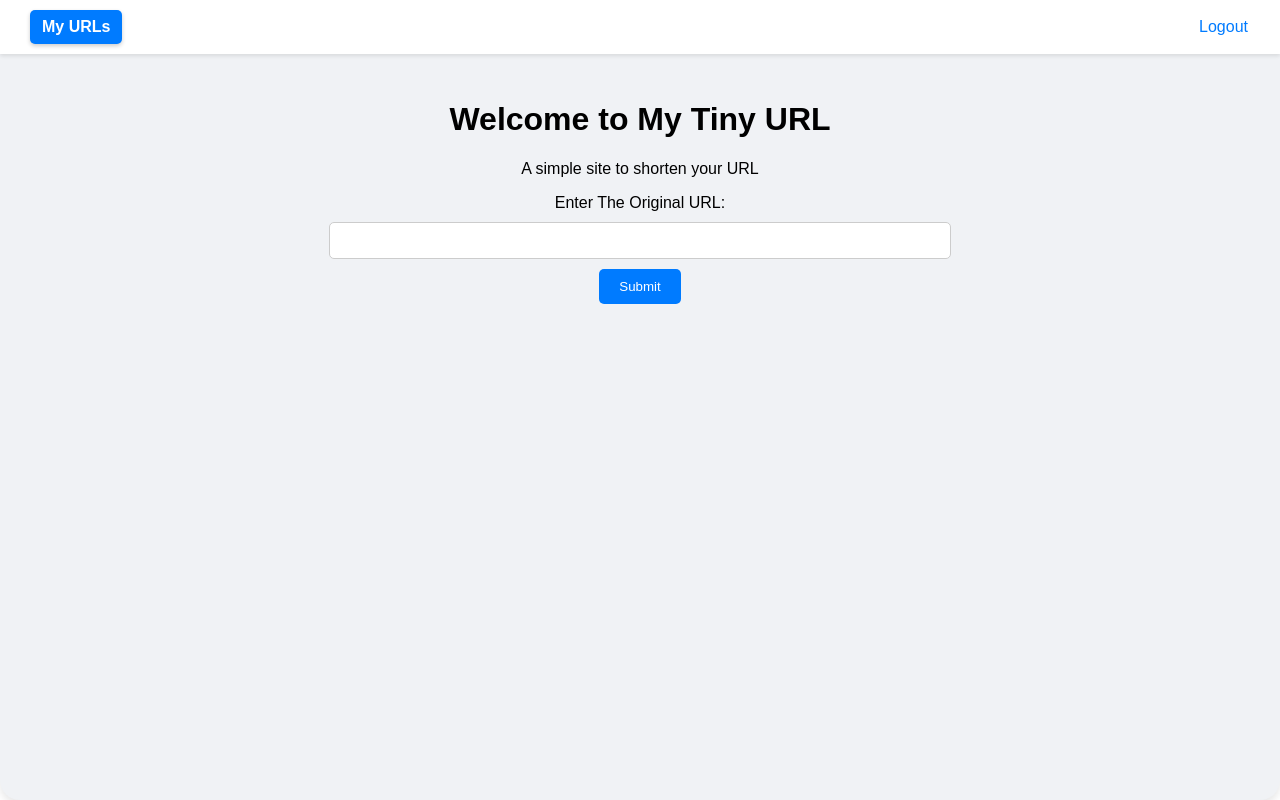
TinyUrlHomePage › handles user input and form submission successfully
// Simulate user input and form submission
In the field labelled "Enter The Original URL:": (640, 240) top-left (329, 222), bottom-right (951, 259), type "http://test.url"
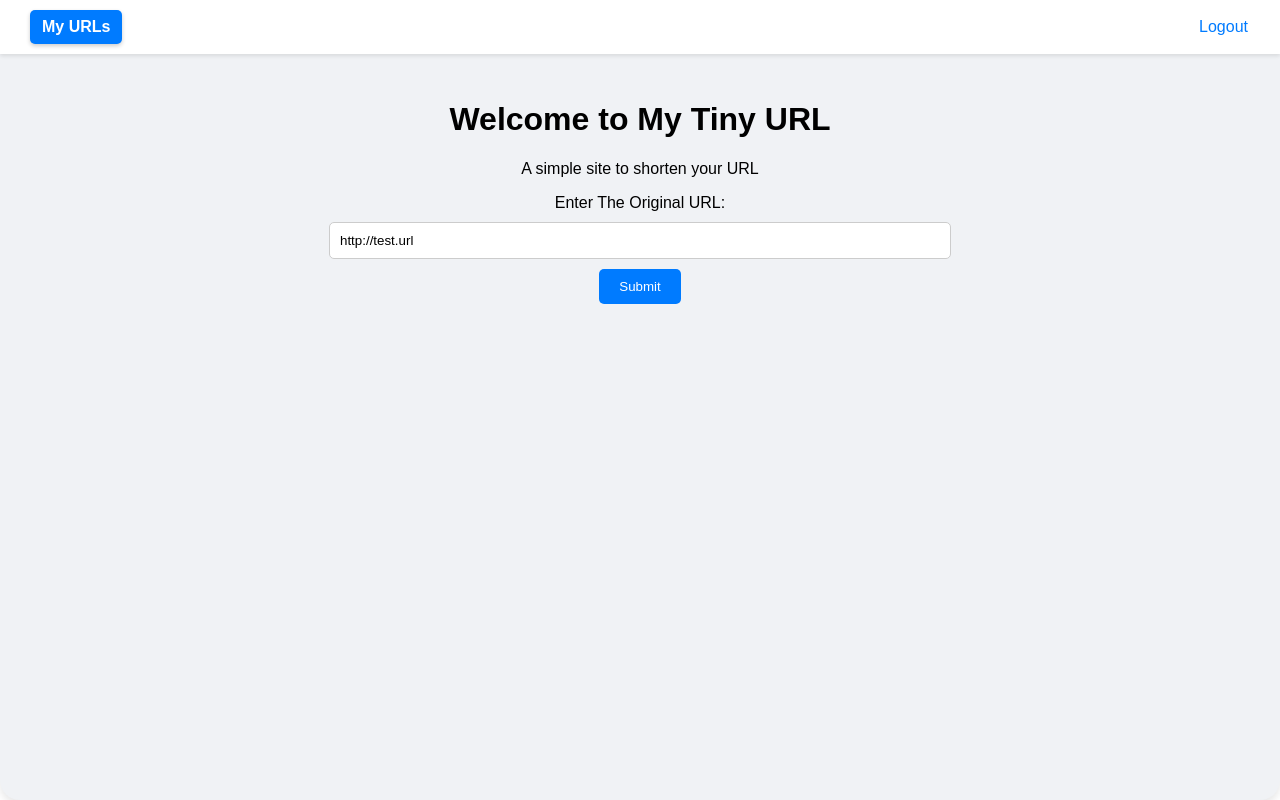
Click the button "Submit": (640, 286) top-left (599, 269), bottom-right (681, 304)
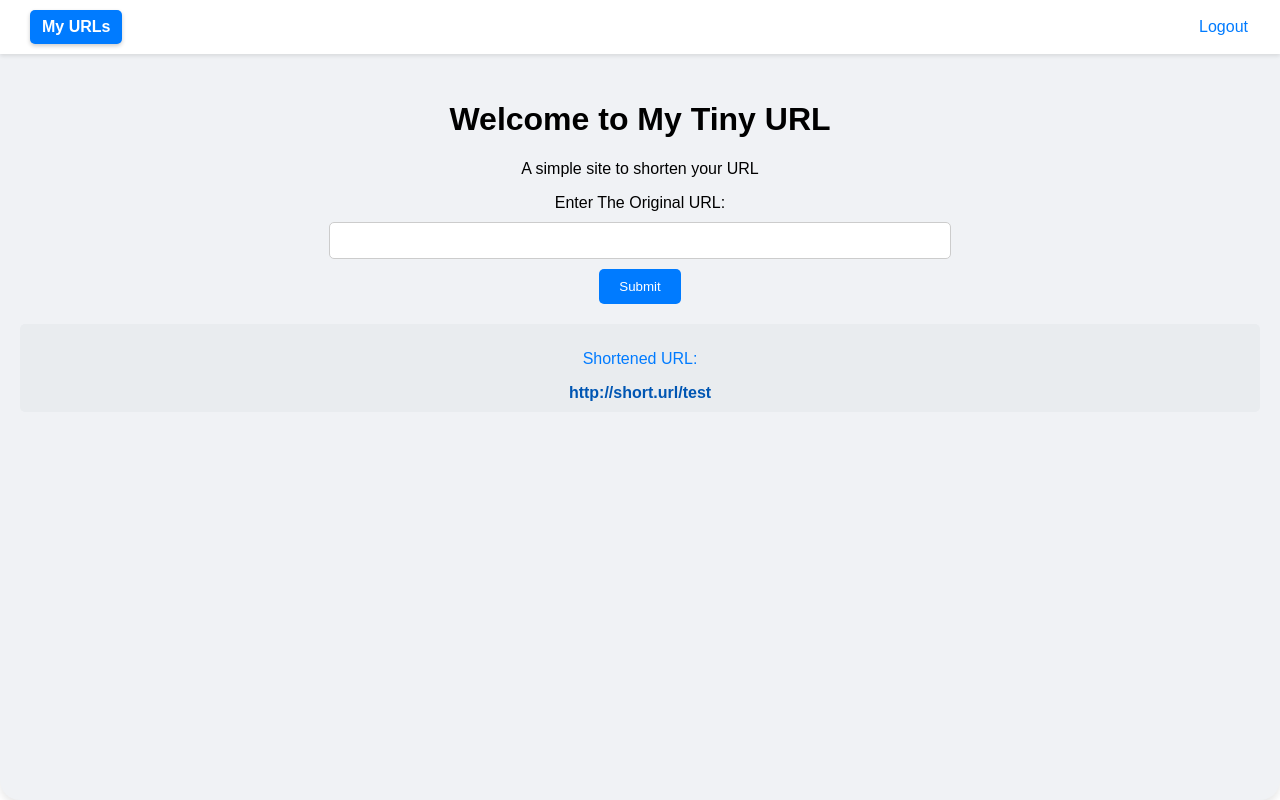
expect the link "http://short.url/test" is shown: met, box top-left (569, 384), bottom-right (711, 401)
